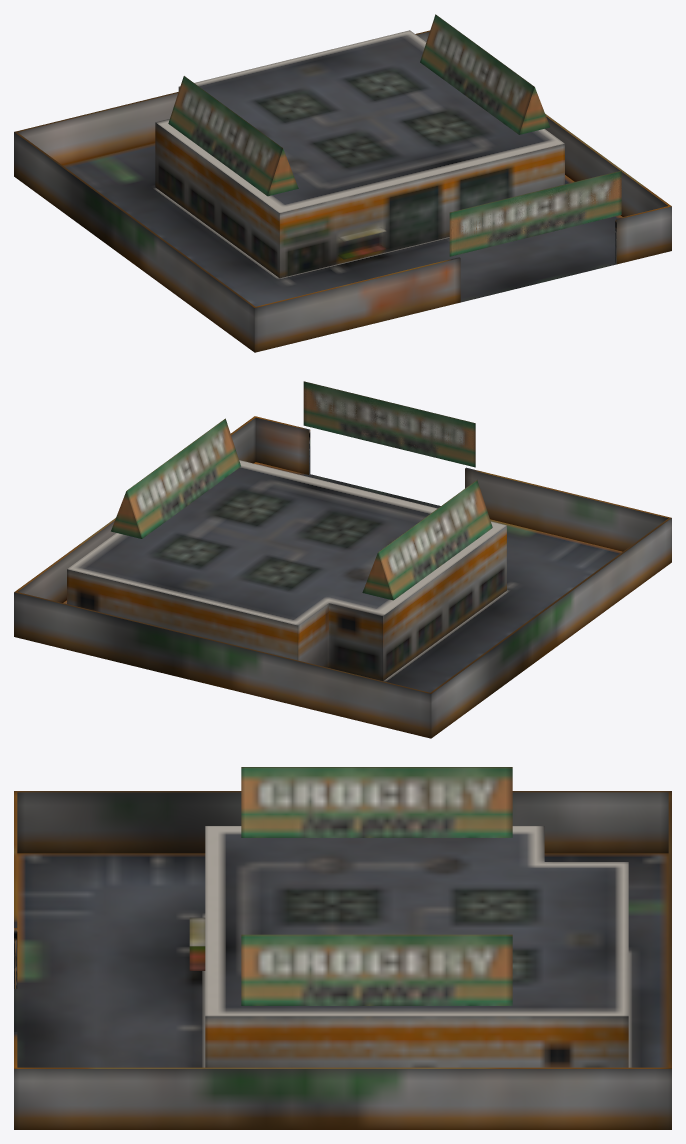
The model's file is BLD_FoodShop_L3.FBX.
The picture shows the model from 3 angles, top to bottom: view 1: azimuth 30°, elevation 25°; view 2: azimuth 150°, elevation 25°; view 3: azimuth 270°, elevation 25°; orthographic projection. The views are drawn at different scales.
Visible parts, largest first — view 1: B_appro_T1_L3; view 2: B_appro_T1_L3; view 3: B_appro_T1_L3.
Part boxes in pixels (x1,y1,x2,y2): B_appro_T1_L3: (14, 14, 671, 352); B_appro_T1_L3: (14, 381, 671, 738); B_appro_T1_L3: (14, 767, 671, 1129).
Size of the model in its own units: 4001 by 4000 by 1067.
